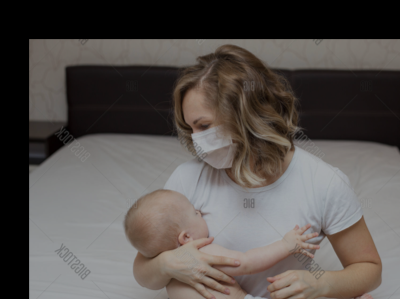with_mask: (188, 113, 241, 170)
